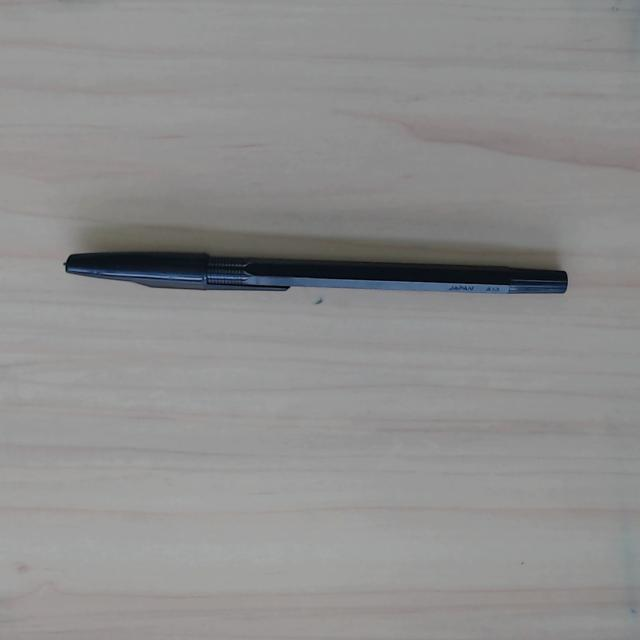Pulpen-Hitam: (65, 249, 568, 298)
